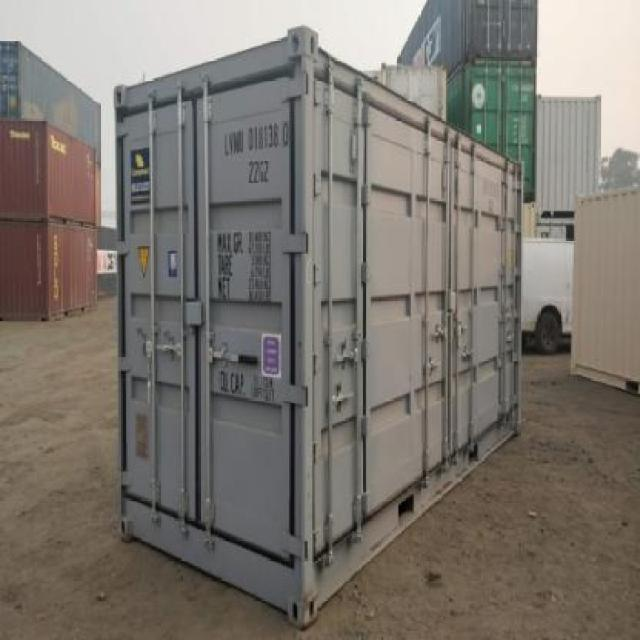ISO: (245, 160, 272, 182)
container_number: (218, 124, 288, 152)
